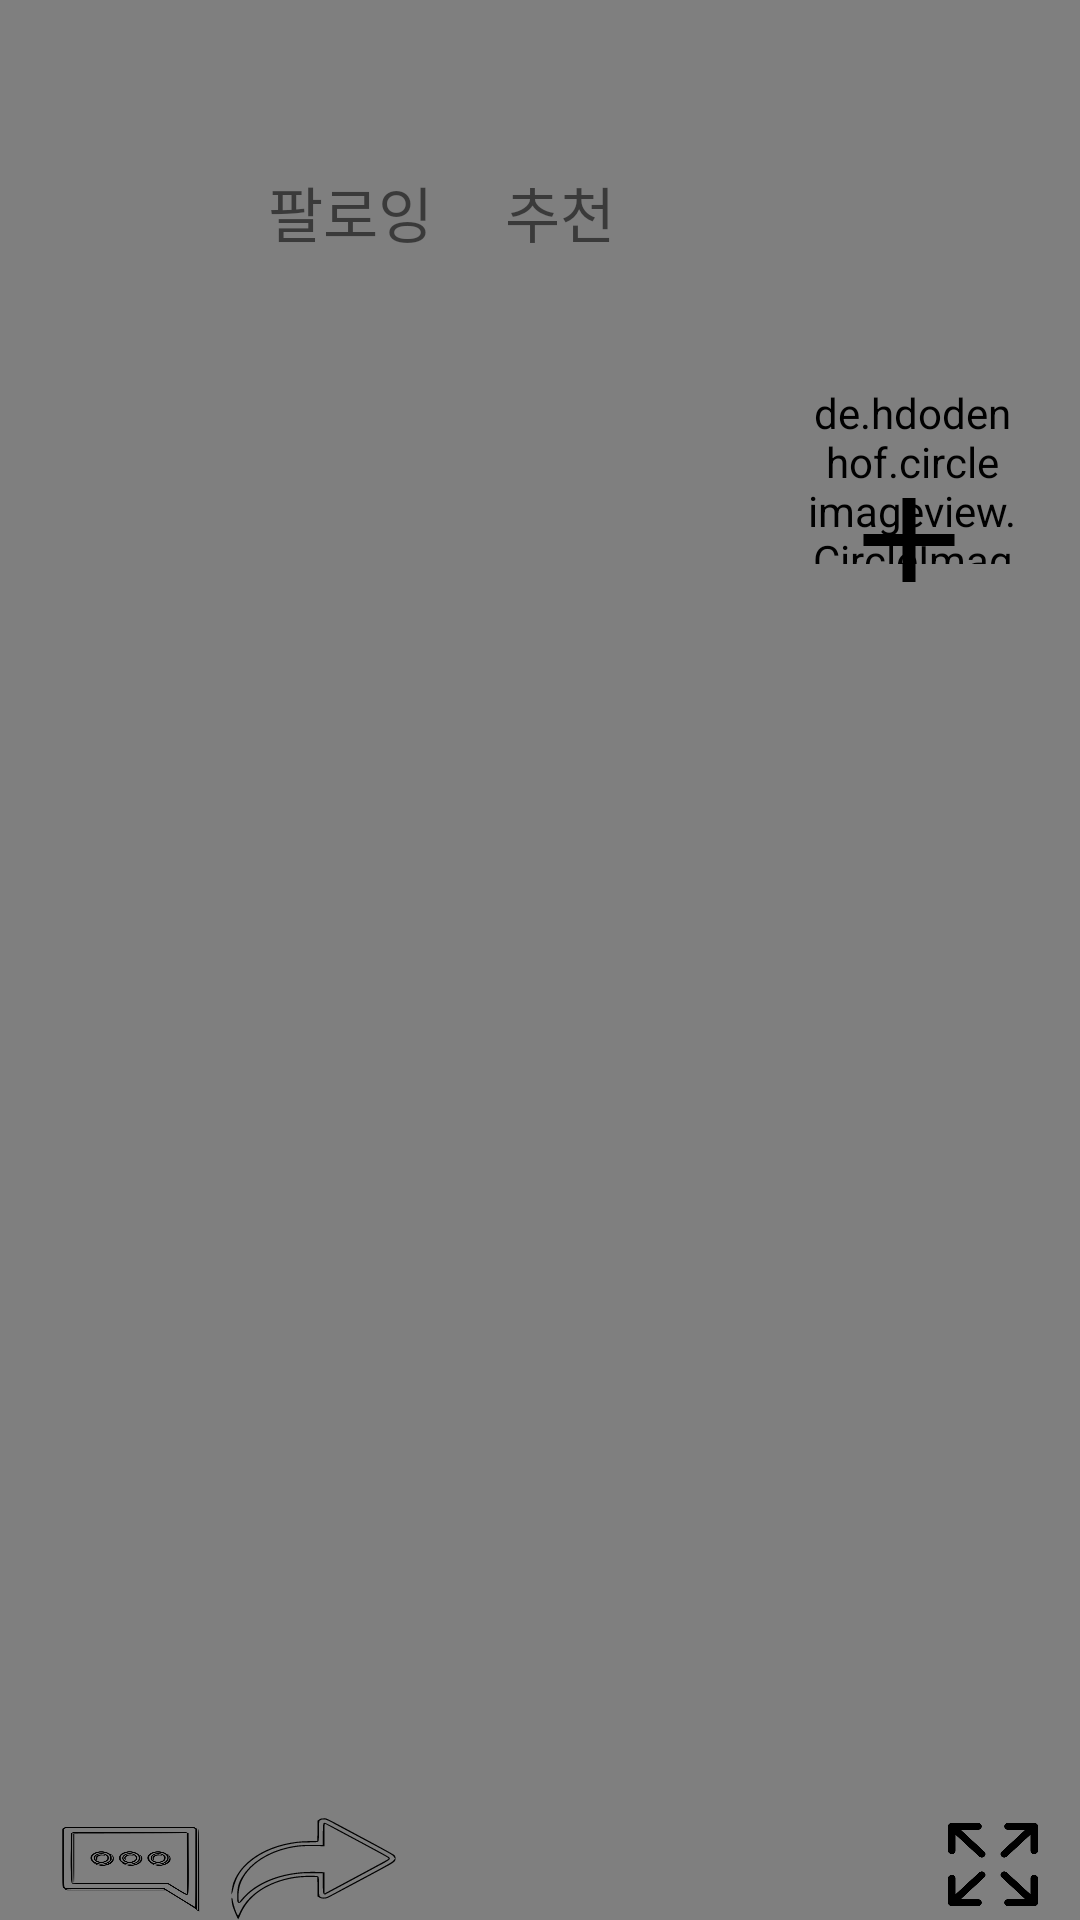

Screen size 1080w x 1920h. Icon name, then its box in pixels as Rect(x1, y1, x2, y2):
chat: Rect(62, 1827, 199, 1911)
screenline: Rect(948, 1823, 1038, 1906)
share: Rect(231, 1818, 396, 1919)
